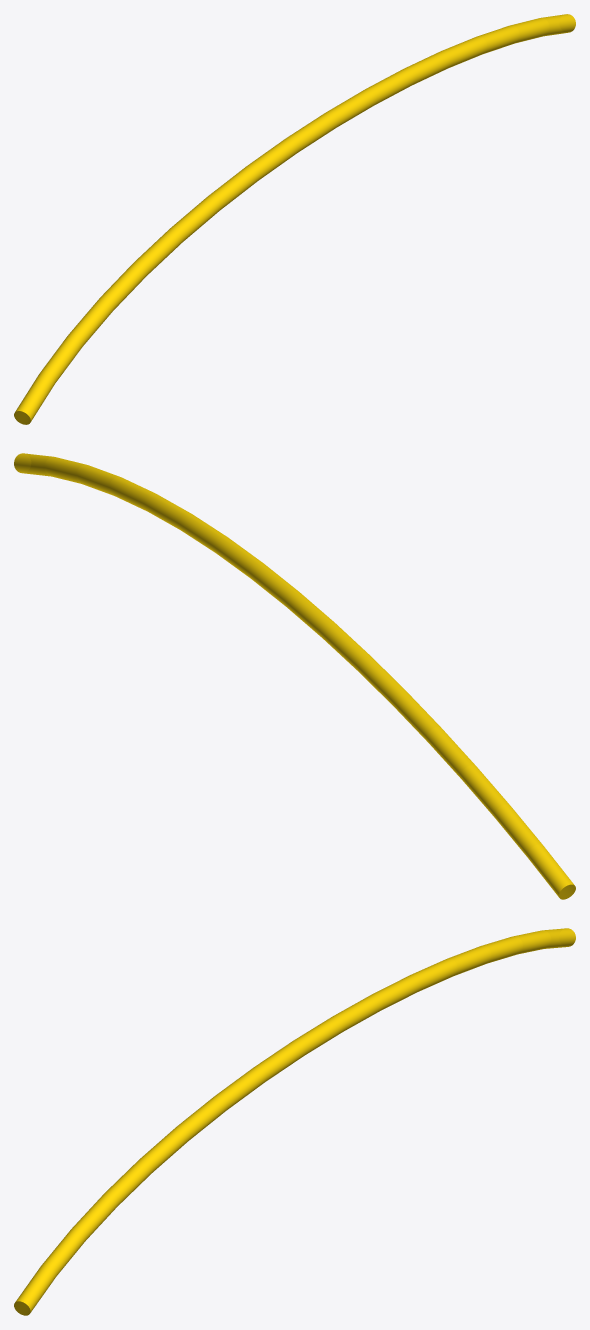
Rendered from Event_420094457_track_48.fbx.
3 views of the same model, one above another, from view 1: azimuth 90°, elevation 25°; view 2: azimuth 150°, elevation 25°; view 3: azimuth 270°, elevation 25° (orthographic). The views are drawn at different scales.
Visible parts, largest first — view 1: Model; view 2: Model; view 3: Model.
Boxes of the visible parts, x1,y1,x2,y2 form: Model: (14, 14, 575, 424); Model: (14, 453, 575, 899); Model: (14, 928, 575, 1315).
Size of the model in its own units: 1.95 by 0.2285 by 1.2.
